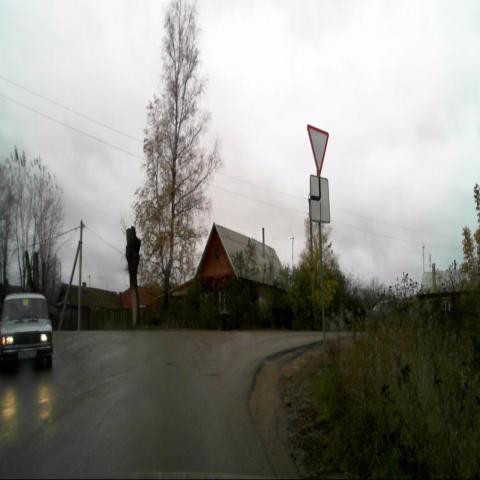8_13: (309, 175, 331, 223)
